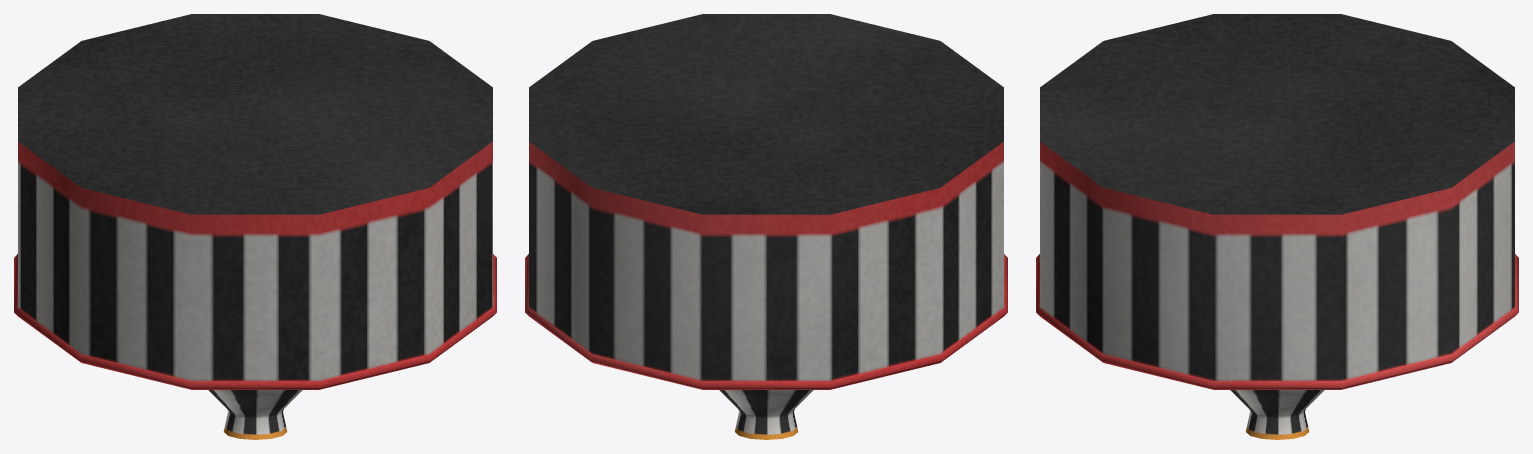
File: Mercury_LFEngine.FBX
3 views of the same model, side by side, from view 1: azimuth 30°, elevation 25°; view 2: azimuth 150°, elevation 25°; view 3: azimuth 270°, elevation 25° (orthographic).
Parts seen in each view (by area): view 1: Mercury_Pod_Engine; view 2: Mercury_Pod_Engine; view 3: Mercury_Pod_Engine.
Boxes of the visible parts, x1=… form: Mercury_Pod_Engine: x1=14, y1=14, x2=496, y2=439; Mercury_Pod_Engine: x1=525, y1=14, x2=1007, y2=439; Mercury_Pod_Engine: x1=1036, y1=14, x2=1518, y2=439.
Bounding box in the file's own units: 45.77 × 28.75 × 45.77.
